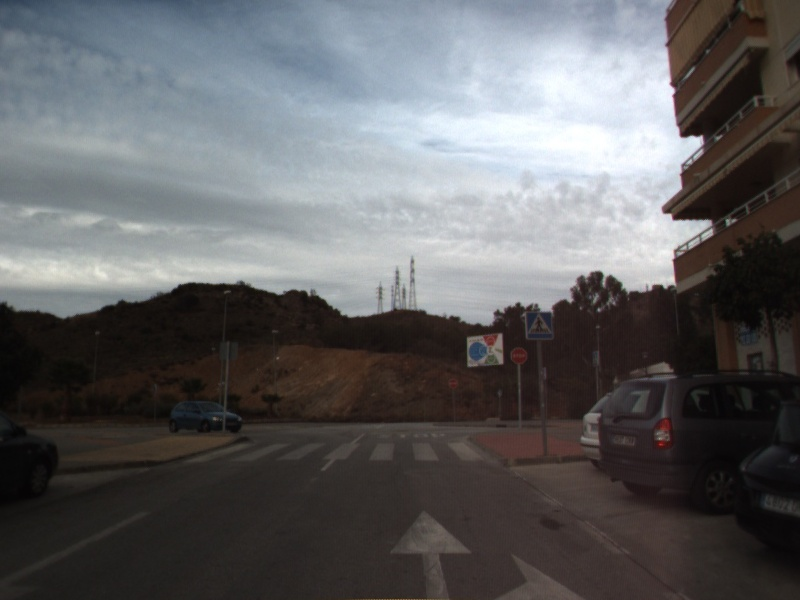STRAIGHT_RIGHT: (386, 504, 585, 600)
